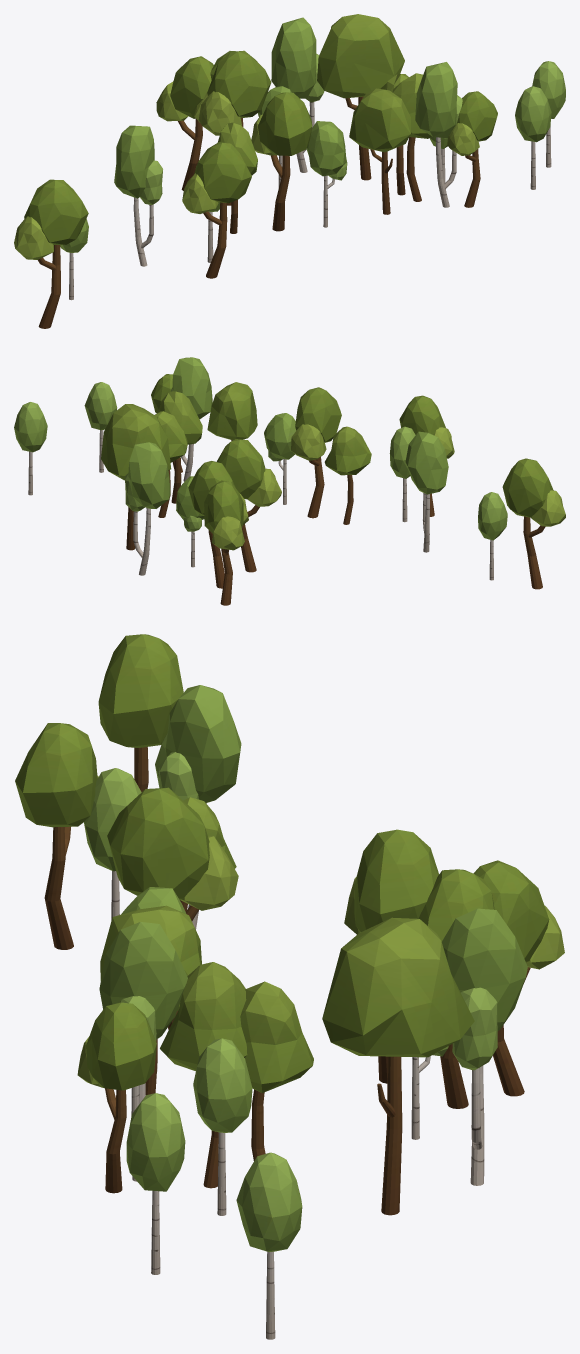
The model's file is Trees15.gltf.
3 renders of one model, top to bottom at view 1: azimuth 30°, elevation 25°; view 2: azimuth 150°, elevation 25°; view 3: azimuth 270°, elevation 25°, orthographic. The views are drawn at different scales.
Parts seen in each view (by area): view 1: Beechtree3 - copy.015, Beechtree2 - copy.018, Beechtree2 - copy.023, Beechtree2 - copy.041, Beechtree2 - copy.002, BirchTree2 - copy.037, Beechtree3 - copy.043, BirchTree2 - copy.018, BirchTree2 - copy.019, Beechtree2 - copy.040, Beechtree2 - copy.027, BirchTree3 - copy.025 (+6 smaller); view 2: Beechtree2 - copy.018, Beechtree3 - copy.015, Beechtree2 - copy.002, BirchTree2 - copy.018, Beechtree2 - copy.041, Beechtree2 - copy.040, BirchTree2 - copy.037, Beechtree3 - copy.043, Beechtree1 - copy.044, BirchTree2 - copy.019, Beechtree2 - copy.034, Beechtree2 - copy.023 (+9 smaller); view 3: Beechtree3 - copy.015, Beechtree2 - copy.002, BirchTree2 - copy.018, Beechtree2 - copy.023, Beechtree2 - copy.018, BirchTree2 - copy.037, Beechtree2 - copy.041, BirchTree2 - copy.019, Beechtree2 - copy.027, Beechtree1 - copy.011, Beechtree1 - copy.029, Beechtree2 - copy.040 (+8 smaller).
Boxes of the visible parts, x1,y1,x2,y2 form: Beechtree3 - copy.015: [317, 14, 404, 180]; Beechtree2 - copy.018: [14, 179, 88, 328]; Beechtree2 - copy.023: [182, 142, 251, 278]; Beechtree2 - copy.041: [198, 50, 271, 205]; Beechtree2 - copy.002: [251, 92, 312, 231]; BirchTree2 - copy.037: [114, 125, 162, 266]; Beechtree3 - copy.043: [349, 88, 410, 214]; BirchTree2 - copy.018: [271, 17, 324, 172]; BirchTree2 - copy.019: [415, 62, 462, 207]; Beechtree2 - copy.040: [156, 56, 213, 190]; Beechtree2 - copy.027: [447, 91, 497, 207]; BirchTree3 - copy.025: [306, 121, 347, 227]; Beechtree2 - copy.018: [502, 458, 565, 589]; Beechtree3 - copy.015: [101, 404, 171, 550]; Beechtree2 - copy.002: [291, 387, 341, 518]; BirchTree2 - copy.018: [125, 442, 170, 575]; Beechtree2 - copy.041: [216, 439, 281, 572]; Beechtree2 - copy.040: [204, 480, 244, 605]; BirchTree2 - copy.037: [405, 431, 448, 552]; Beechtree3 - copy.043: [207, 382, 257, 440]; Beechtree1 - copy.044: [324, 426, 371, 524]; BirchTree2 - copy.019: [171, 357, 212, 481]; Beechtree2 - copy.034: [188, 461, 248, 588]; Beechtree2 - copy.023: [399, 395, 454, 516]; Beechtree3 - copy.015: [322, 917, 474, 1215]; Beechtree2 - copy.002: [107, 787, 238, 1029]; BirchTree2 - copy.018: [441, 908, 527, 1185]; Beechtree2 - copy.023: [15, 723, 98, 949]; Beechtree2 - copy.018: [98, 634, 183, 791]; BirchTree2 - copy.037: [159, 685, 241, 929]; Beechtree2 - copy.041: [344, 829, 438, 1083]; BirchTree2 - copy.019: [99, 922, 187, 1181]; Beechtree2 - copy.027: [77, 1002, 156, 1193]; Beechtree1 - copy.011: [240, 981, 313, 1160]; Beechtree1 - copy.029: [160, 962, 247, 1188]; Beechtree2 - copy.040: [473, 860, 564, 1096].
Size of the model in its own units: 44.1 by 12.32 by 20.38.
6 materials, 6 textured.
